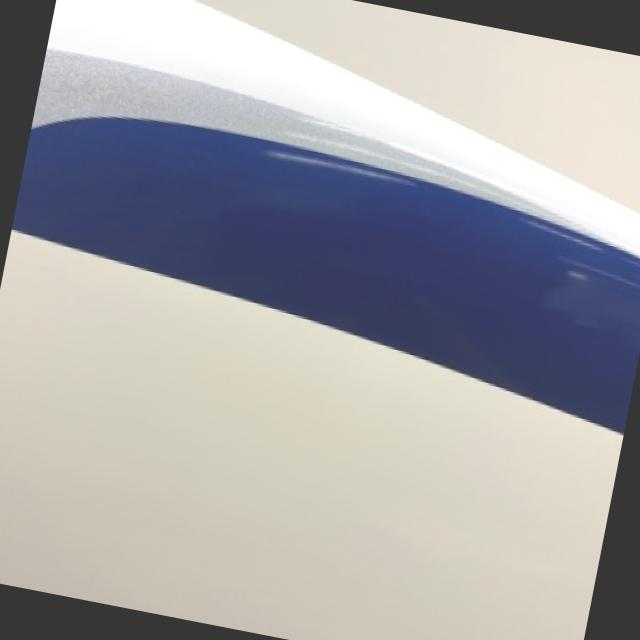healthy: (12, 0, 640, 429), (0, 232, 621, 640)
